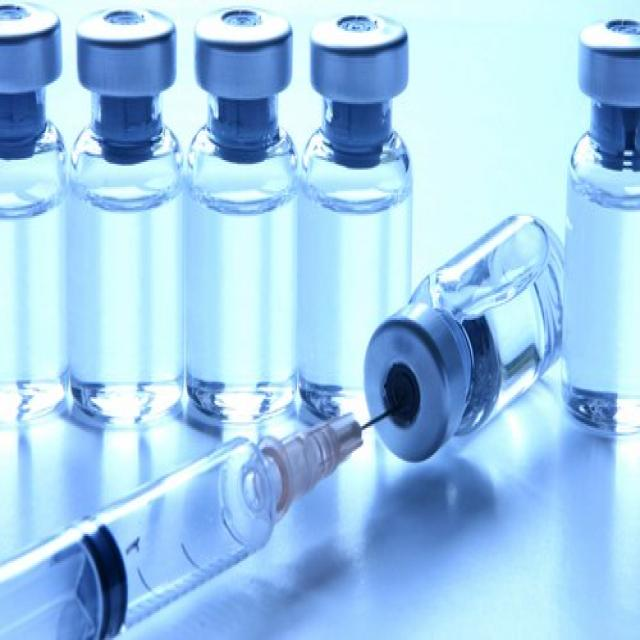B3: (2, 395, 404, 634), (347, 183, 580, 474), (286, 8, 428, 408), (65, 6, 196, 439), (174, 11, 306, 430), (554, 8, 640, 451)
